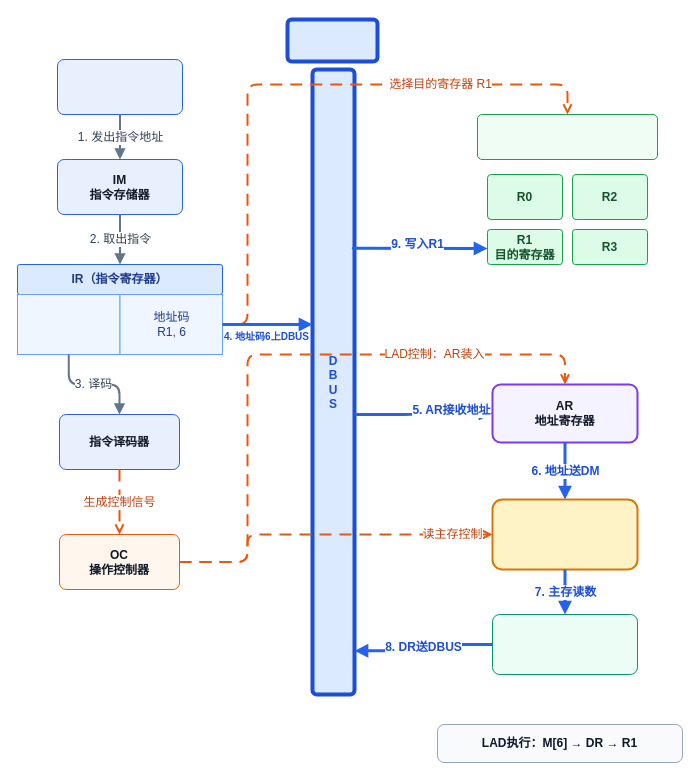
This 700x780 diagram has some shape labels left out. The box of each missing label's shape, as (x1, y1, x2, y2) in pixels:
DBUS 数据总线: (285, 17, 379, 63)
DM 数据存储器 M[6]: (491, 498, 638, 570)
DR 数据缓冲寄存器: (492, 614, 638, 674)
PC 程序计数器: (56, 58, 182, 114)
寄存器组（R0-R3）: (476, 114, 658, 160)
操作码 LAD: (16, 294, 120, 354)
